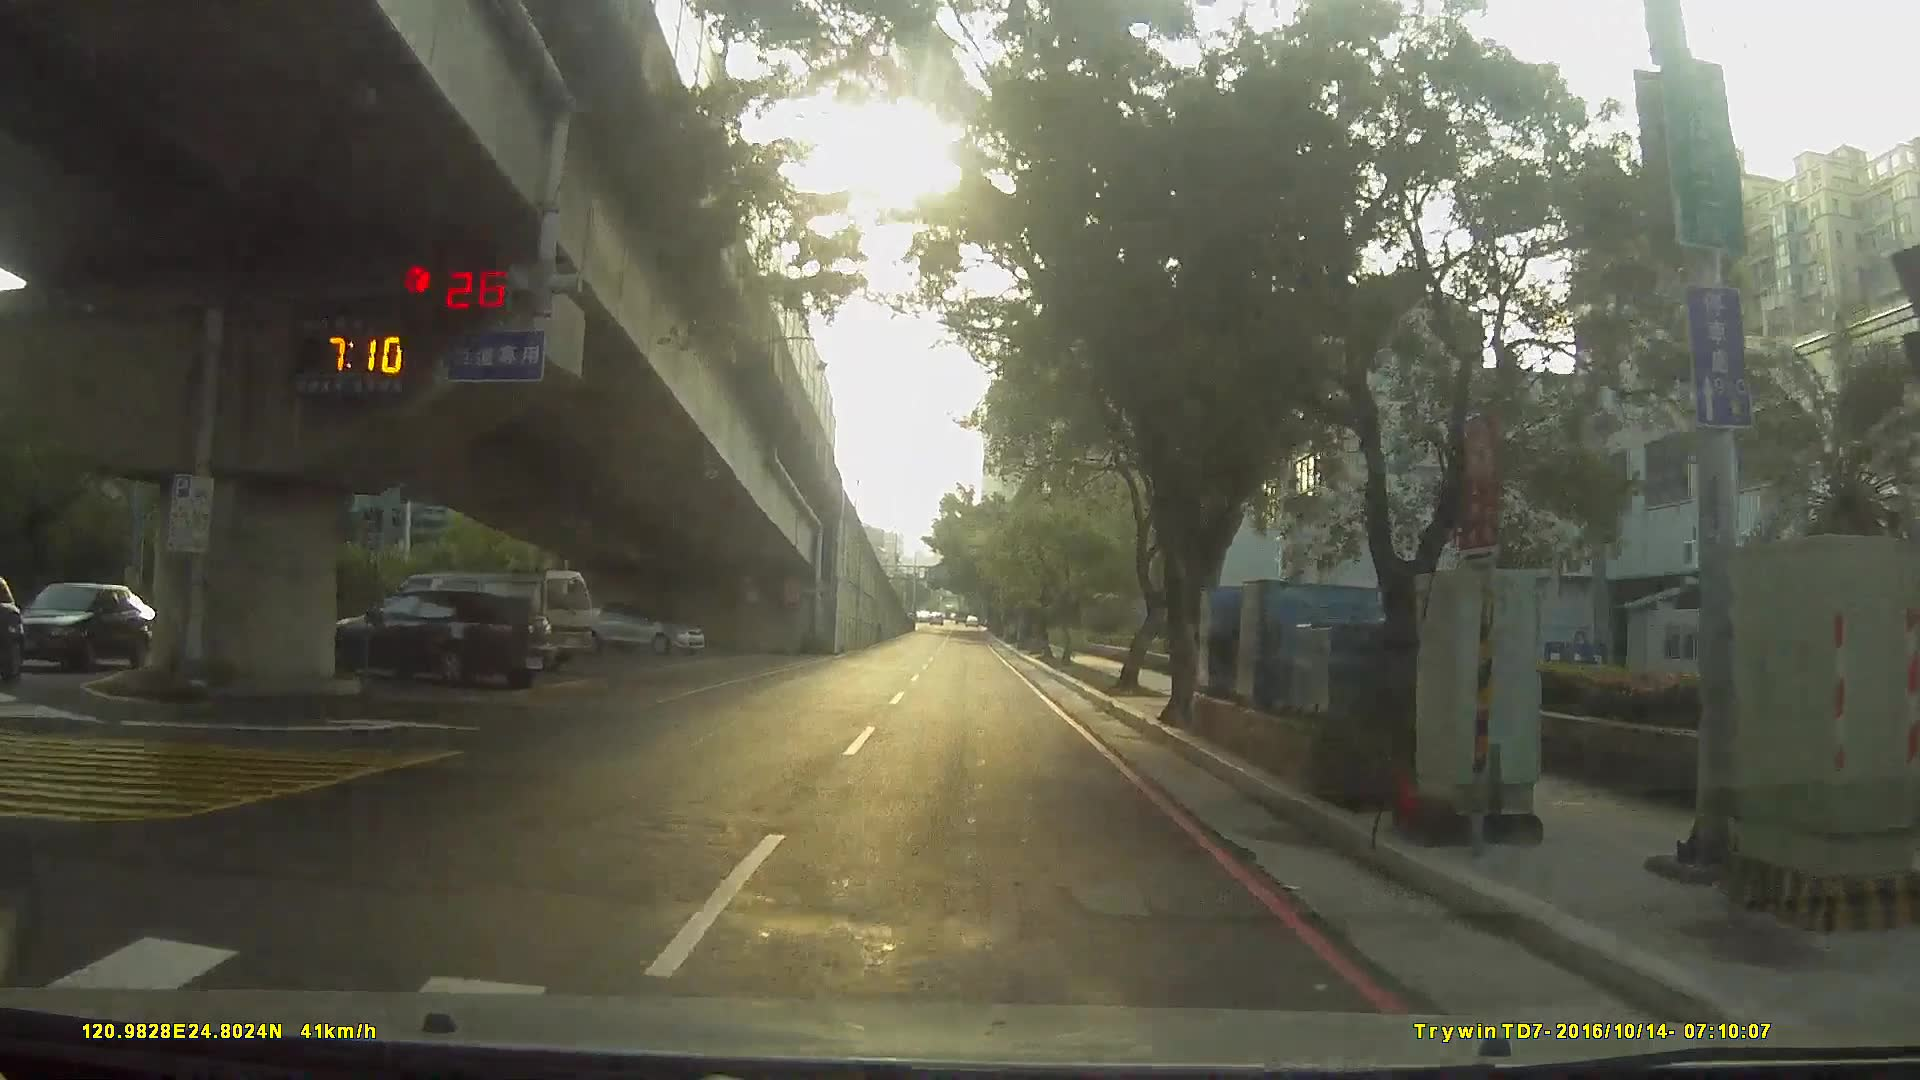vehicle: (303, 588, 546, 691), (369, 566, 588, 671), (24, 582, 167, 676), (578, 597, 705, 655), (1, 575, 36, 683)
